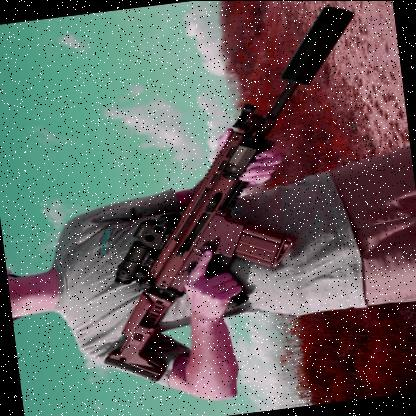rifle: (51, 7, 398, 387)
